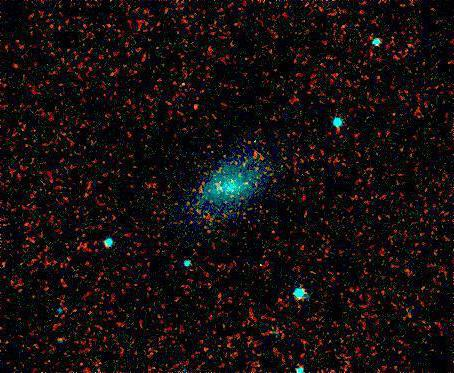star: (182, 90, 212, 120)
